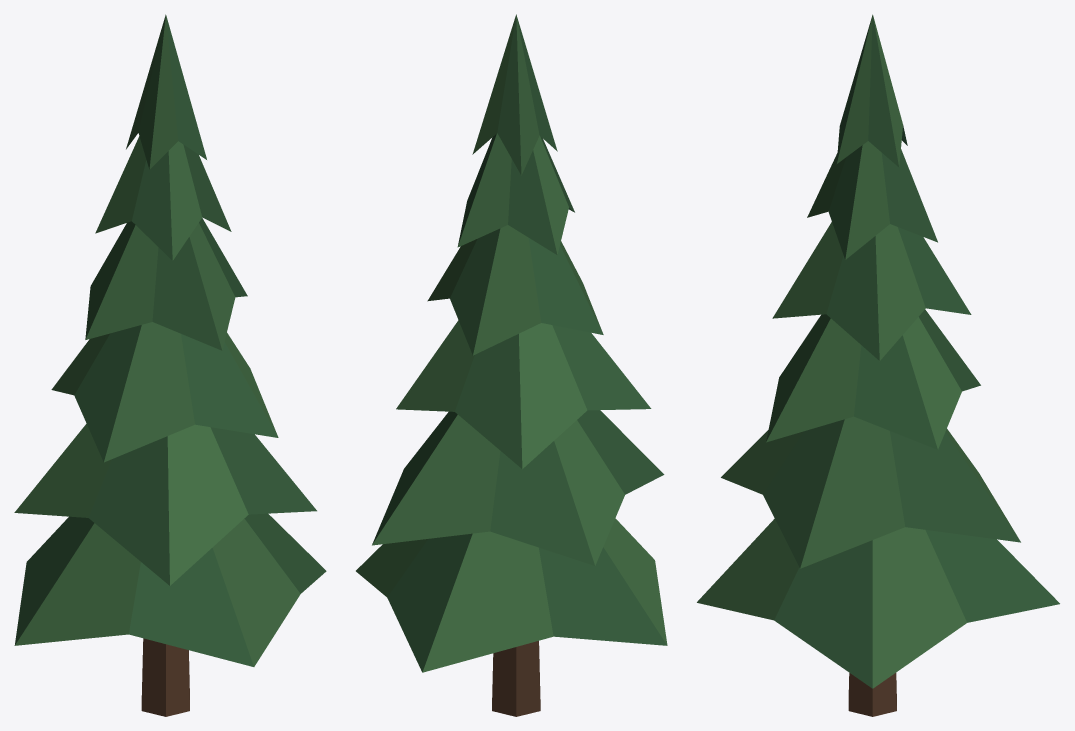
The model's file is conifer.glb.
3 views of the same model, side by side, from view 1: azimuth 30°, elevation 25°; view 2: azimuth 150°, elevation 25°; view 3: azimuth 270°, elevation 25° (orthographic).
Visible parts, largest first — view 1: conifer; view 2: conifer; view 3: conifer.
Part boxes in pixels (box(x1,y1,x2,y2)): conifer: box(14, 14, 326, 716); conifer: box(356, 14, 667, 716); conifer: box(697, 14, 1059, 716).
Bounding box in the file's own units: 3.35 × 7.1 × 3.39.
